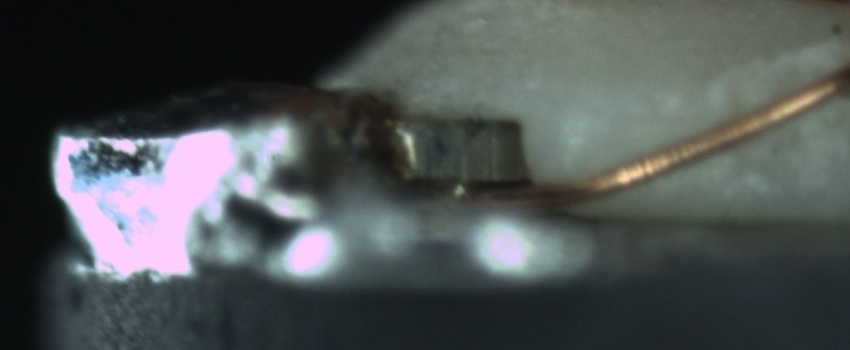DL: (590, 81, 714, 144)
